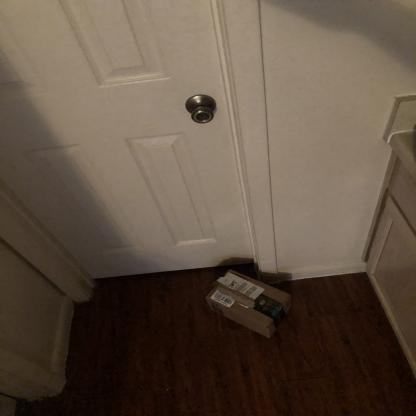package: (203, 267, 294, 341)
